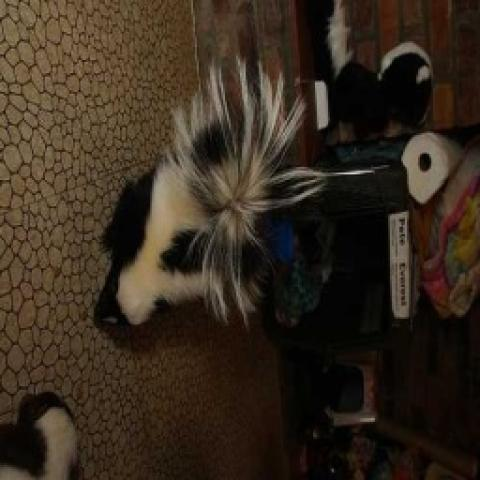small_animal: (92, 86, 317, 334)
